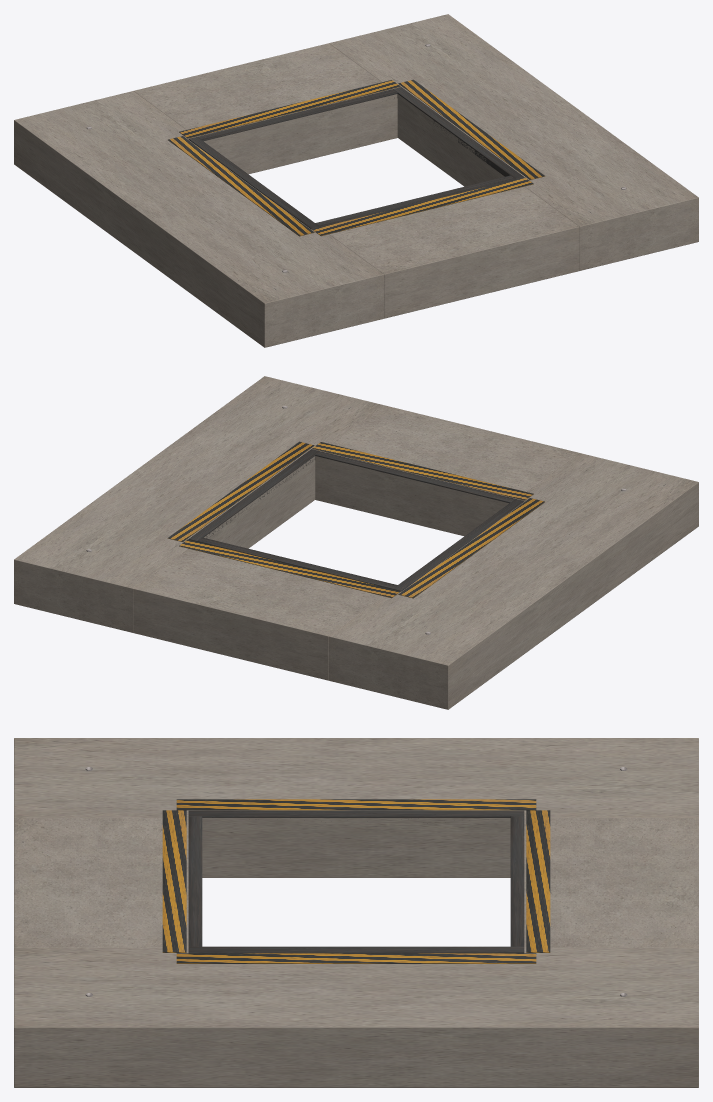
The model's file is SM_FacilityRooms_HatchLanding200.fbx.
3 renders of one model, top to bottom at view 1: azimuth 30°, elevation 25°; view 2: azimuth 150°, elevation 25°; view 3: azimuth 270°, elevation 25°, orthographic. The views are drawn at different scales.
Parts seen in each view (by area): view 1: SM_FacilityRooms_HatchLanding200; view 2: SM_FacilityRooms_HatchLanding200; view 3: SM_FacilityRooms_HatchLanding200.
Part boxes in pixels (x1,y1,x2,y2): SM_FacilityRooms_HatchLanding200: (14, 14, 698, 347); SM_FacilityRooms_HatchLanding200: (14, 376, 698, 709); SM_FacilityRooms_HatchLanding200: (14, 738, 698, 1087).
Size of what is drawn, in the model's own units: 200 by 200 by 20.
